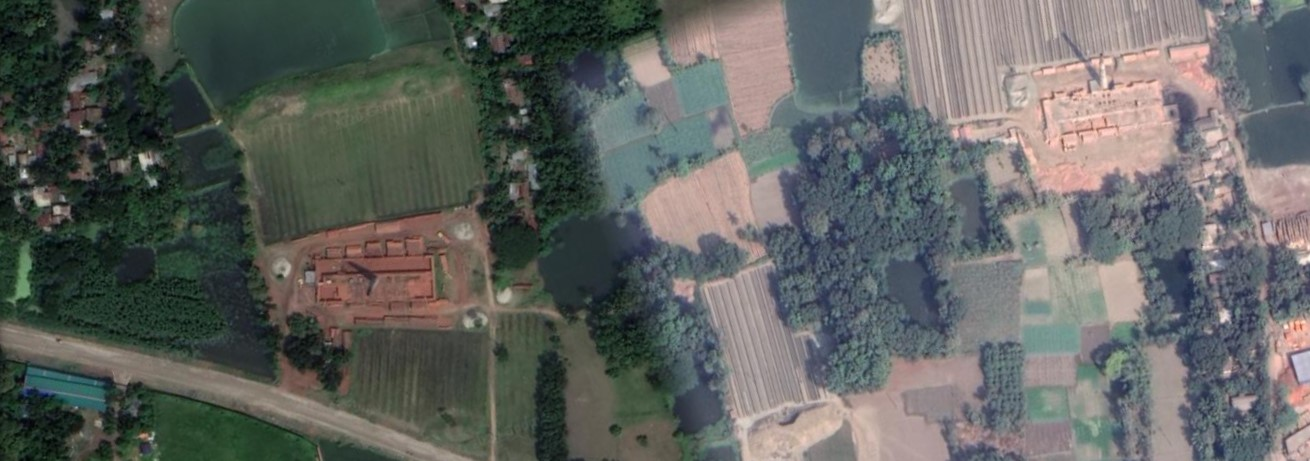kiln: (1014, 49, 1184, 149), (306, 240, 459, 323)
